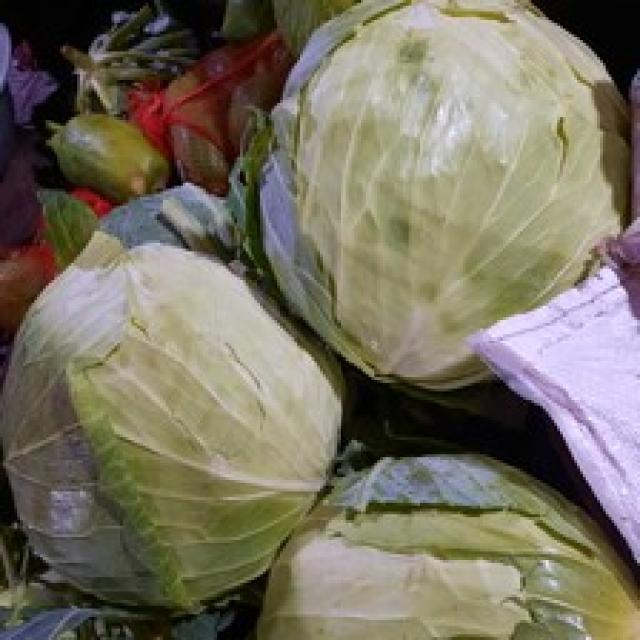Cabbage: (228, 0, 631, 391), (0, 226, 346, 614)
